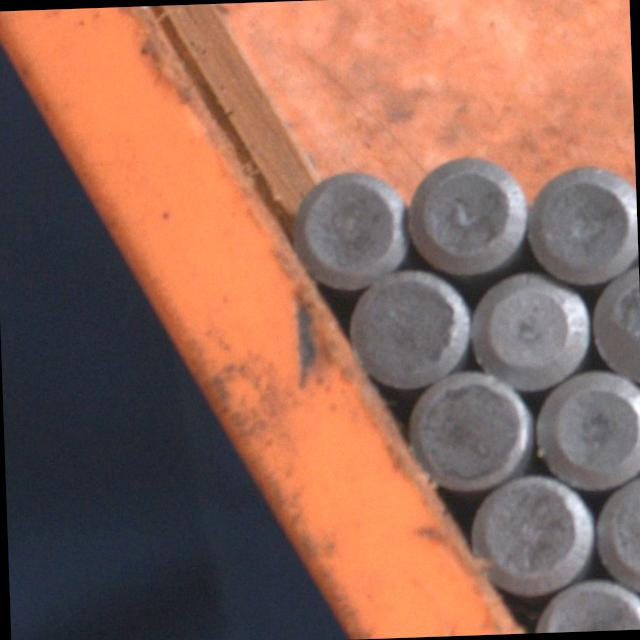tool: (404, 145, 532, 277), (470, 468, 596, 596), (405, 366, 531, 494), (346, 264, 471, 392), (468, 266, 594, 392), (522, 156, 638, 288), (292, 163, 410, 292), (534, 366, 640, 493), (585, 262, 640, 386), (537, 572, 640, 632), (592, 469, 640, 593)
